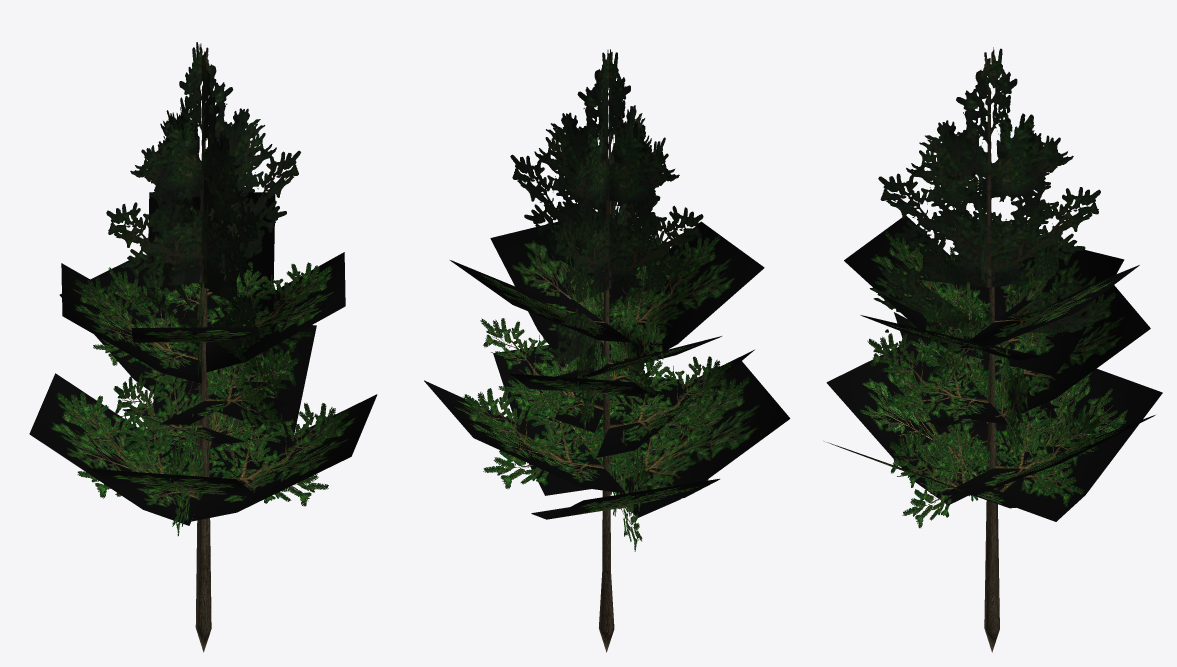
Rendered from ever_endr_babyredwood_a1_l1.fbx.
3 views of the same model, side by side, from view 1: azimuth 30°, elevation 25°; view 2: azimuth 150°, elevation 25°; view 3: azimuth 270°, elevation 25° (orthographic).
Parts seen in each view (by area): view 1: mesh_node; view 2: mesh_node; view 3: mesh_node.
Boxes of the visible parts, x1=… form: mesh_node: x1=29, y1=42, x2=377, y2=652; mesh_node: x1=424, y1=49, x2=790, y2=652; mesh_node: x1=824, y1=47, x2=1162, y2=652.
Bounding box in the file's own units: 11.92 × 23.54 × 11.92.
